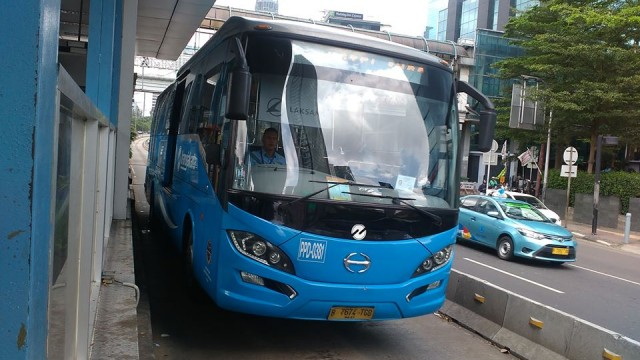plate: (331, 306, 373, 324)
